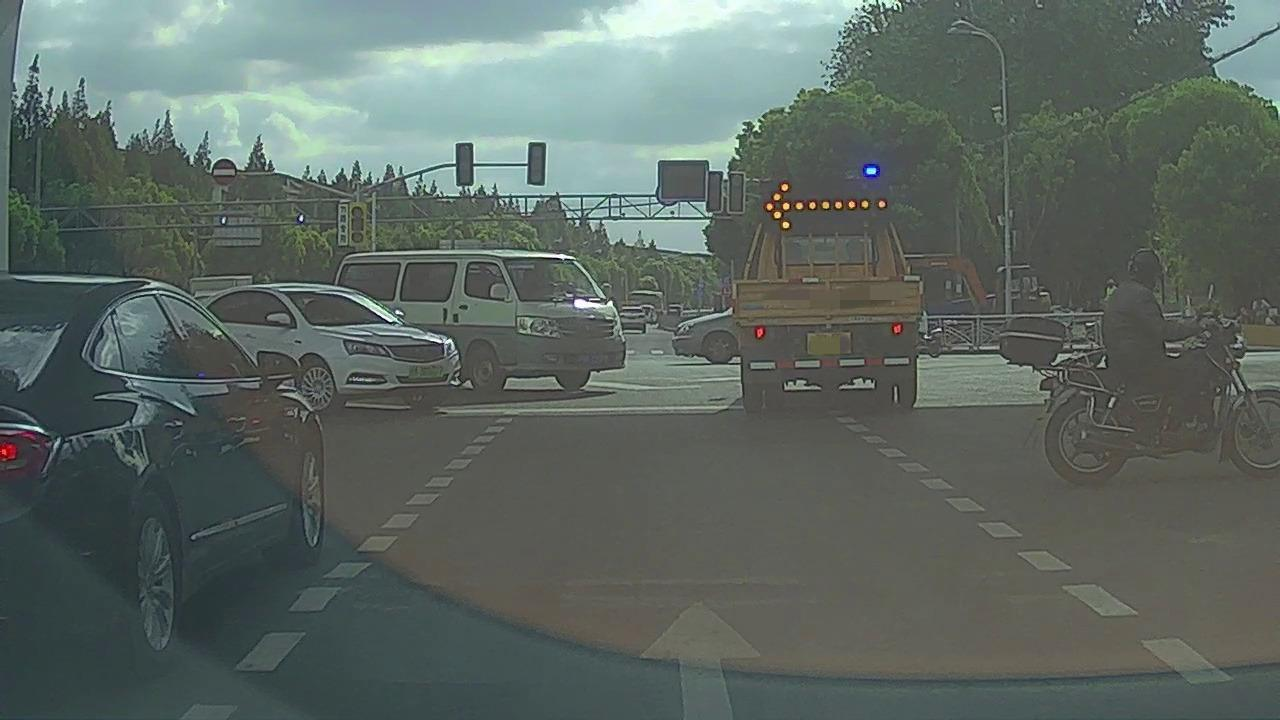traffic_light: (455, 141, 472, 186), (727, 171, 745, 210), (706, 172, 722, 210), (530, 141, 544, 182)
